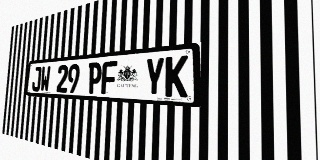2: (56, 64, 68, 93)
9: (67, 64, 80, 93)
F: (101, 61, 117, 95)
J: (32, 67, 42, 92)
K: (165, 55, 188, 97)
P: (87, 62, 102, 94)
W: (40, 66, 51, 92)
Y: (144, 57, 165, 97)
